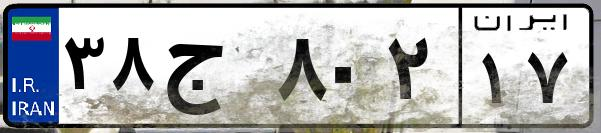0: (330, 28, 385, 110)
1: (475, 38, 525, 113)
2: (385, 28, 445, 110)
3: (57, 26, 110, 100)
7: (525, 38, 570, 115)
8: (270, 28, 330, 110), (110, 28, 158, 98)
ج: (158, 20, 270, 120)
